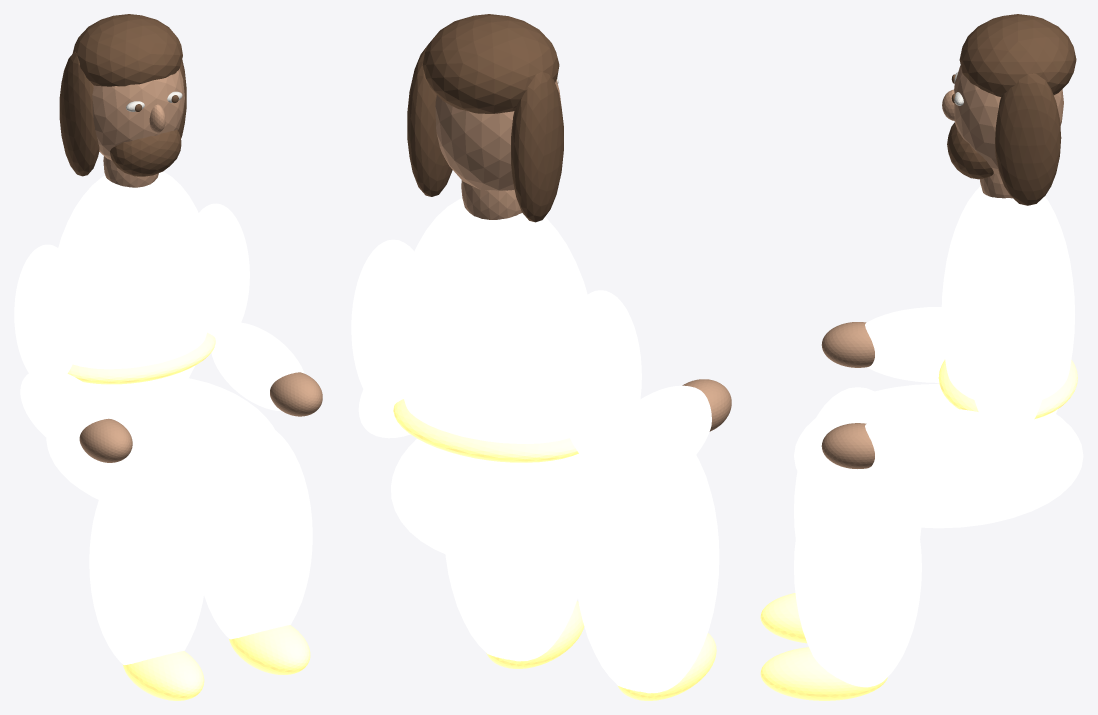
The model's file is jesus-seated.glb.
The picture shows the model from 3 angles, left to right: view 1: azimuth 30°, elevation 25°; view 2: azimuth 150°, elevation 25°; view 3: azimuth 270°, elevation 25°; orthographic projection. The views are drawn at different scales.
Visible parts, largest first — view 1: world; view 2: world; view 3: world.
Part boxes in pixels (x1,y1,x2,y2): world: (14,14,322,700); world: (351,14,731,700); world: (760,14,1083,700).
Bounding box in the file's own units: 1.1 × 2.56 × 1.16.
